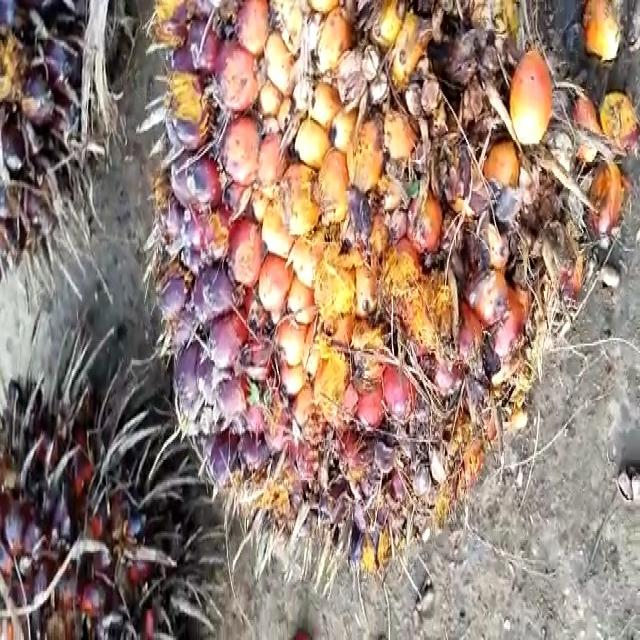palm oil: (155, 0, 632, 543)
